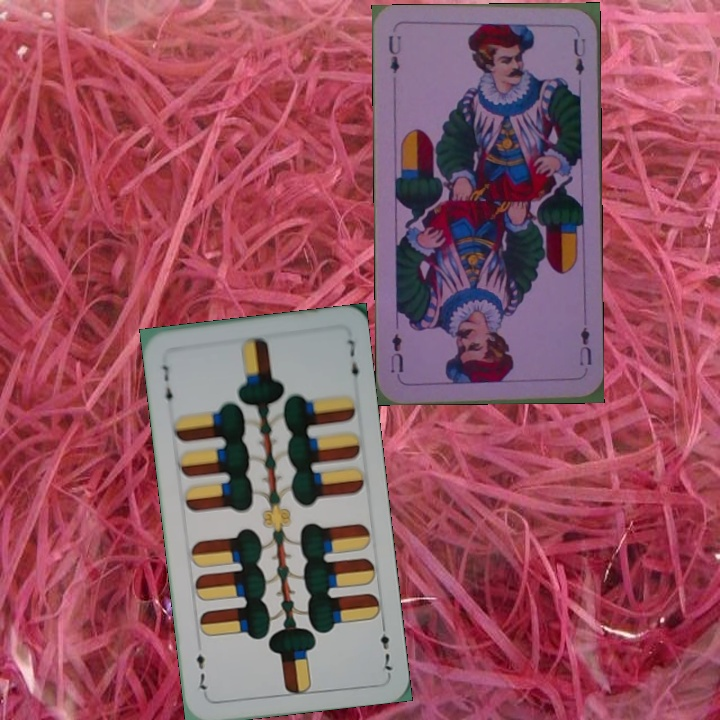E7: (375, 618, 394, 677), (158, 360, 175, 410)
EU: (575, 322, 594, 369), (385, 31, 404, 75)
